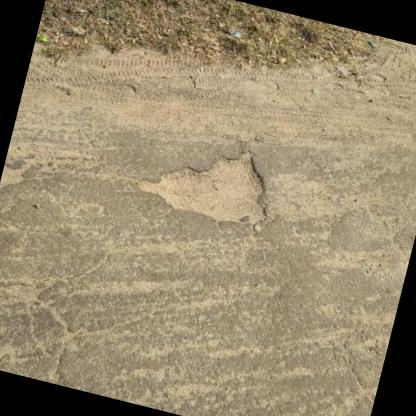pothole: (132, 122, 284, 236)
